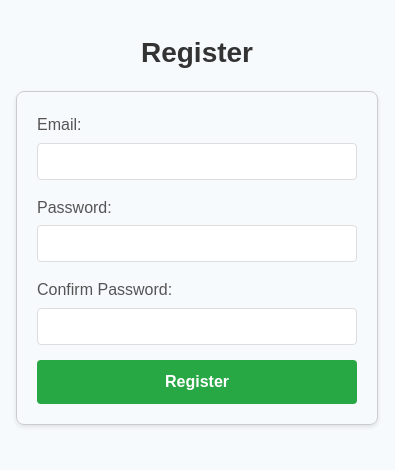
RegisterPage Component › Form Validation › shows error if password is too short
The width and height of the screenshot is (395, 470).
In the field labelled "Email:": (197, 161) [37,143,357,180], type "test@example.com"
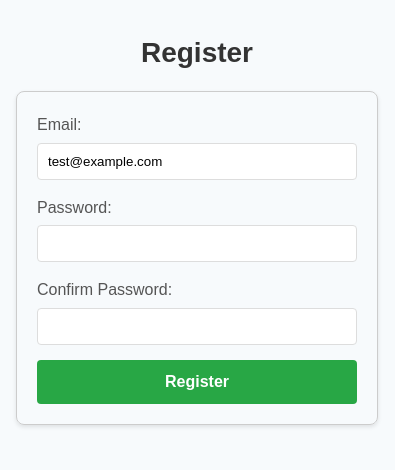
In the password field labelled "Password:": (197, 244) [37,226,357,262], type "123"
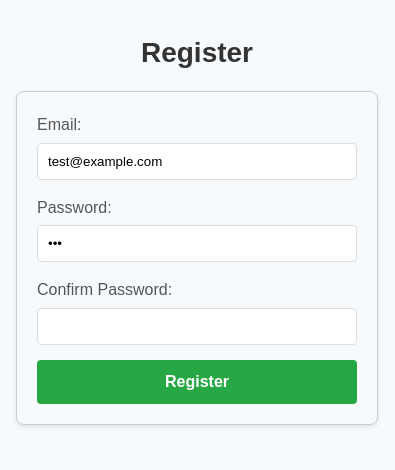
In the password field labelled "Confirm Password:": (197, 327) [37,308,357,345], type "123"
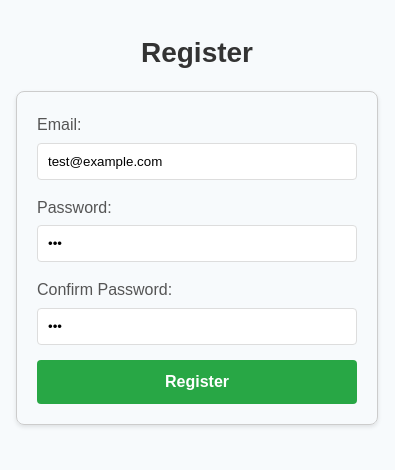
Click the button "Register": click(197, 382) [37,360,357,404]
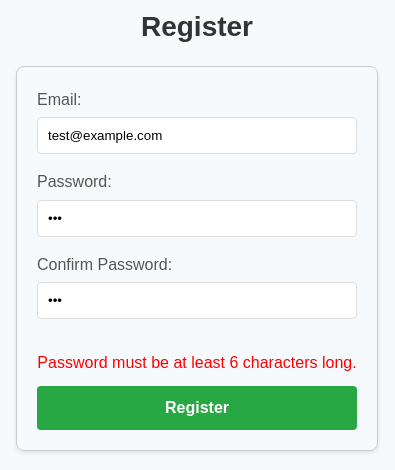
Now the text "Password must be at least 6 characters long." is shown, box [37,350,357,376]
